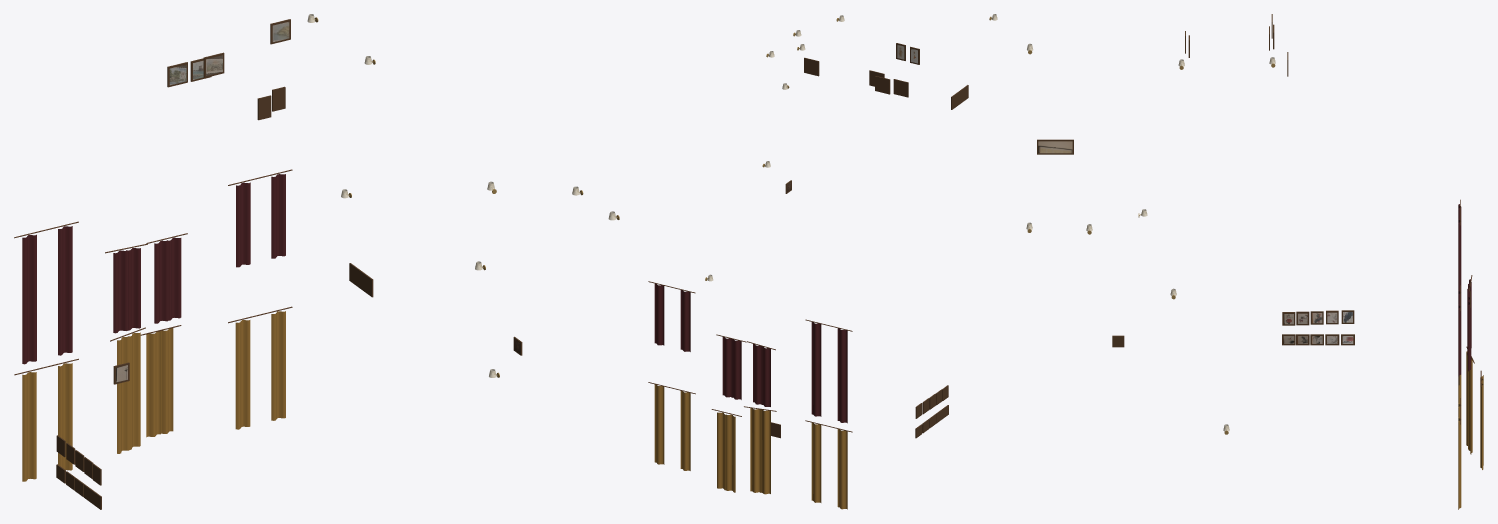
Rendered from EKLER.glb.
3 views of the same model, side by side, from view 1: azimuth 30°, elevation 25°; view 2: azimuth 150°, elevation 25°; view 3: azimuth 270°, elevation 25° (orthographic). The views are drawn at different scales.
Visible parts, largest first — view 1: Fon perde P08 sol, Fon perde P08 sag, Fon perde P30 sol, Fon perde P30 sag, Fon perde P07 sol, Fon perde P25 sag, Fon perde P25 sol, Fon perde P07 sag, Fon perde P19 sol, Fon perde P19 sag, Fon perde P31 sol, Fon perde P31 sag (+4 smaller); view 2: Fon perde P08 sag, Fon perde P08 sol, Fon perde P19 sag, Fon perde P19 sol, Fon perde P07 sol, Fon perde P07 sag, Fon perde P30 sag, Fon perde P30 sol, Fon perde P25 sol, Fon perde P25 sag, Fon perde P31 sag, Fon perde P31 sol (+4 smaller); view 3: no part large enough to name.
Boxes of the visible parts, bbox=[...] form: Fon perde P08 sol: bbox=[22, 234, 36, 364]; Fon perde P08 sag: bbox=[58, 226, 72, 355]; Fon perde P30 sol: bbox=[235, 320, 250, 429]; Fon perde P30 sag: bbox=[271, 311, 285, 420]; Fon perde P07 sol: bbox=[22, 372, 36, 481]; Fon perde P25 sag: bbox=[146, 331, 160, 437]; Fon perde P25 sol: bbox=[158, 328, 173, 433]; Fon perde P07 sag: bbox=[58, 363, 72, 470]; Fon perde P19 sol: bbox=[117, 336, 129, 453]; Fon perde P19 sag: bbox=[127, 332, 140, 449]; Fon perde P31 sol: bbox=[236, 182, 250, 267]; Fon perde P31 sag: bbox=[271, 174, 285, 258]; Fon perde P08 sag: bbox=[811, 322, 821, 416]; Fon perde P08 sol: bbox=[837, 328, 847, 423]; Fon perde P19 sag: bbox=[750, 408, 761, 492]; Fon perde P19 sol: bbox=[760, 409, 770, 494]; Fon perde P07 sol: bbox=[837, 429, 847, 509]; Fon perde P07 sag: bbox=[811, 422, 821, 502]; Fon perde P30 sag: bbox=[654, 384, 664, 464]; Fon perde P30 sol: bbox=[680, 391, 690, 470]; Fon perde P25 sol: bbox=[717, 412, 726, 490]; Fon perde P25 sag: bbox=[726, 414, 735, 492]; Fon perde P31 sag: bbox=[654, 283, 664, 345]; Fon perde P31 sol: bbox=[680, 290, 690, 351].
Bounding box in the file's own units: 9.09 × 12.09 × 12.02.
78 materials, 19 textured.
